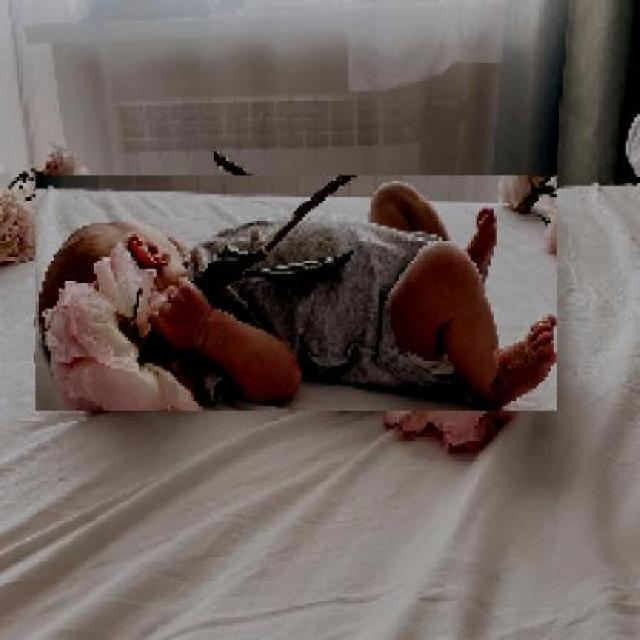child: (33, 176, 556, 413)
